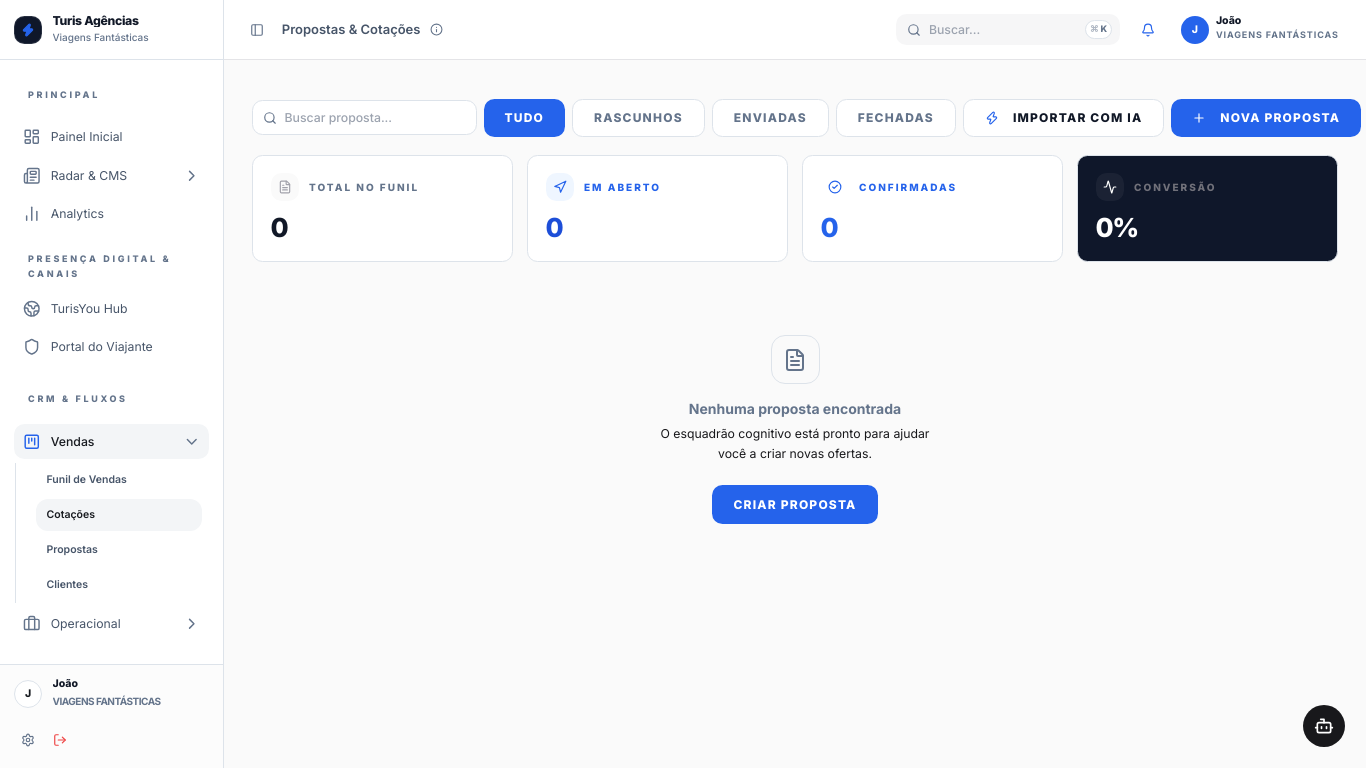
Test: Quotations Page › opens quotation creation in a SheetPage instead of a route page
Click the button "Criar Proposta".
click(795, 504)  # box [712,485,878,524]
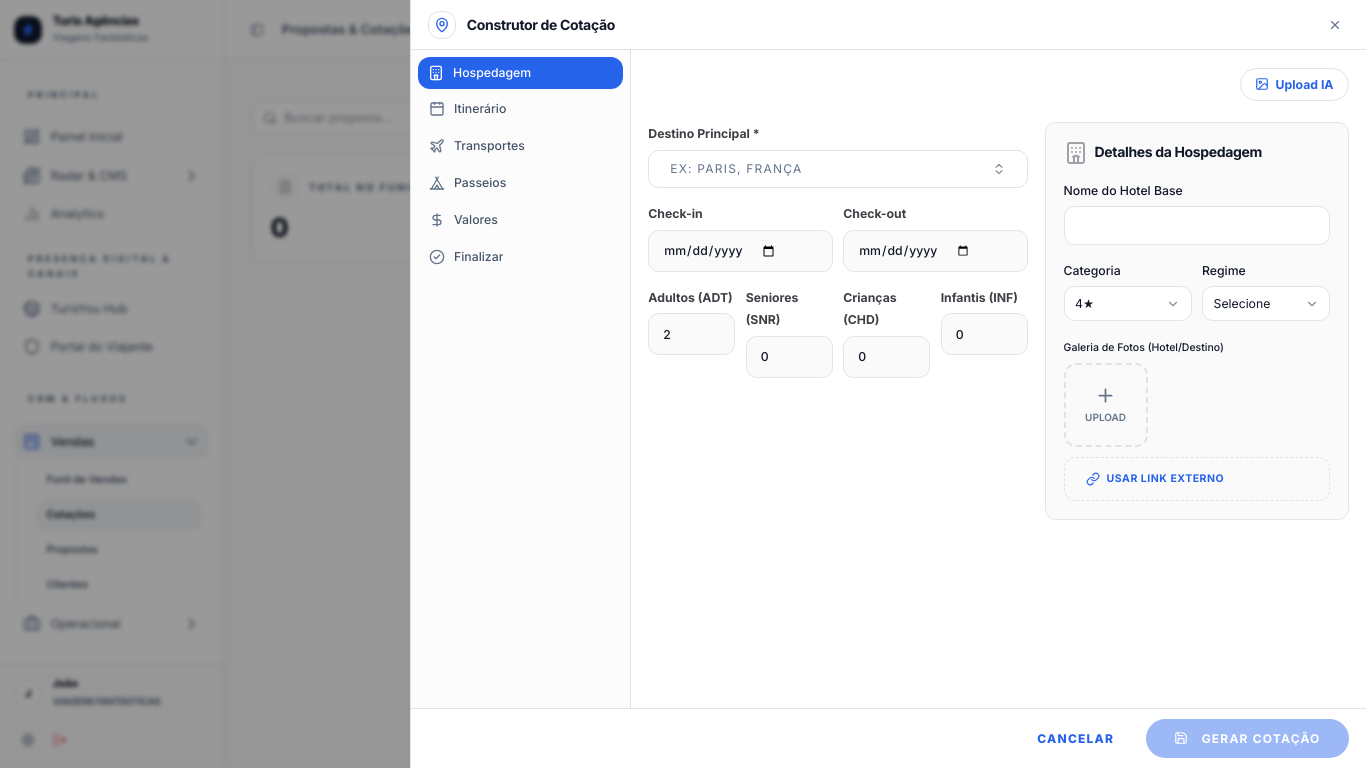
Expected: the dialog shows "Construtor de Cota", [467,16,615,33]
Expected: the text "Hospedagem" is shown, [453,64,531,82]
Expected: the text "Upload IA" is shown, [1240,68,1348,101]
